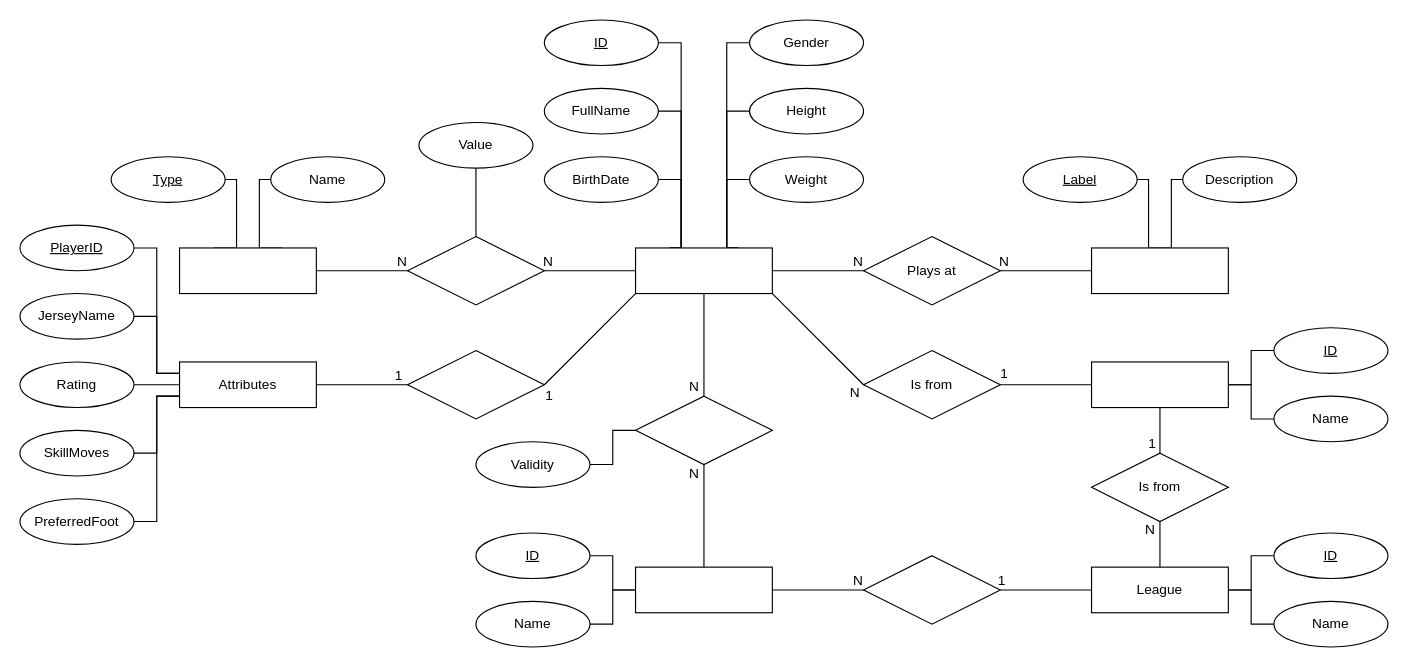
This 1408x667 diagram has some shape labels left out. Here are the shapes that lost their labels. From the top down, the box of each, then its label:
(178, 247, 316, 294): Stat
(406, 235, 544, 305): Has
(634, 247, 772, 294): Player
(1090, 247, 1228, 294): Position
(406, 349, 544, 419): Contains
(1090, 361, 1228, 408): Nation
(634, 395, 772, 465): Contract with
(634, 566, 772, 613): Team
(862, 555, 1000, 624): Member of
